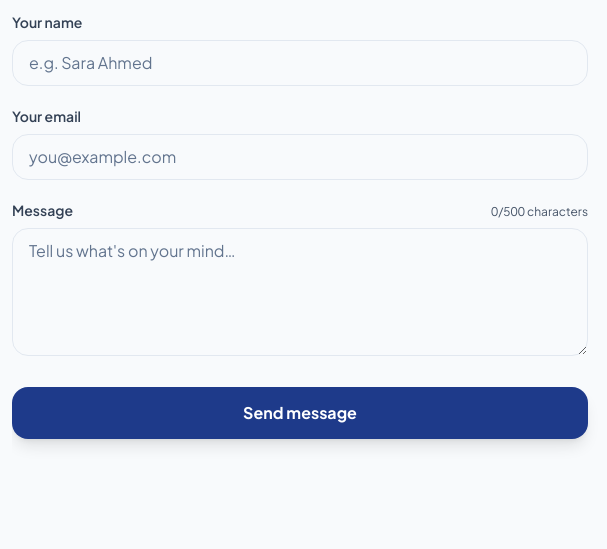
ContactForm › validates required fields and focuses the first invalid field
Click the button "Send message" at (300, 413), box [12,387,588,439]
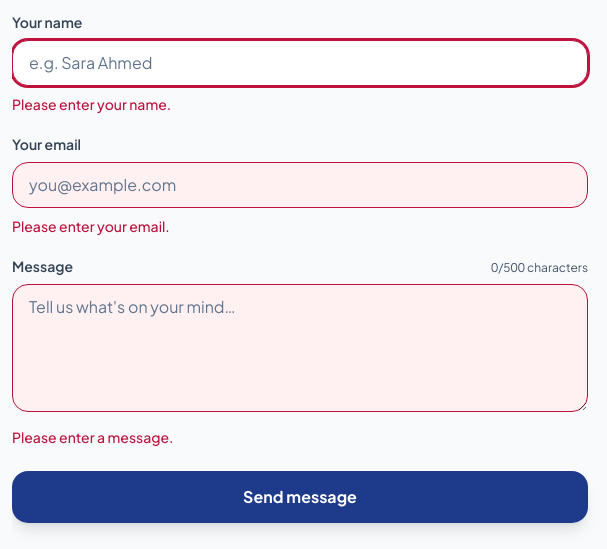
Now the text "Please enter your name." is shown, box [12,95,171,113]
